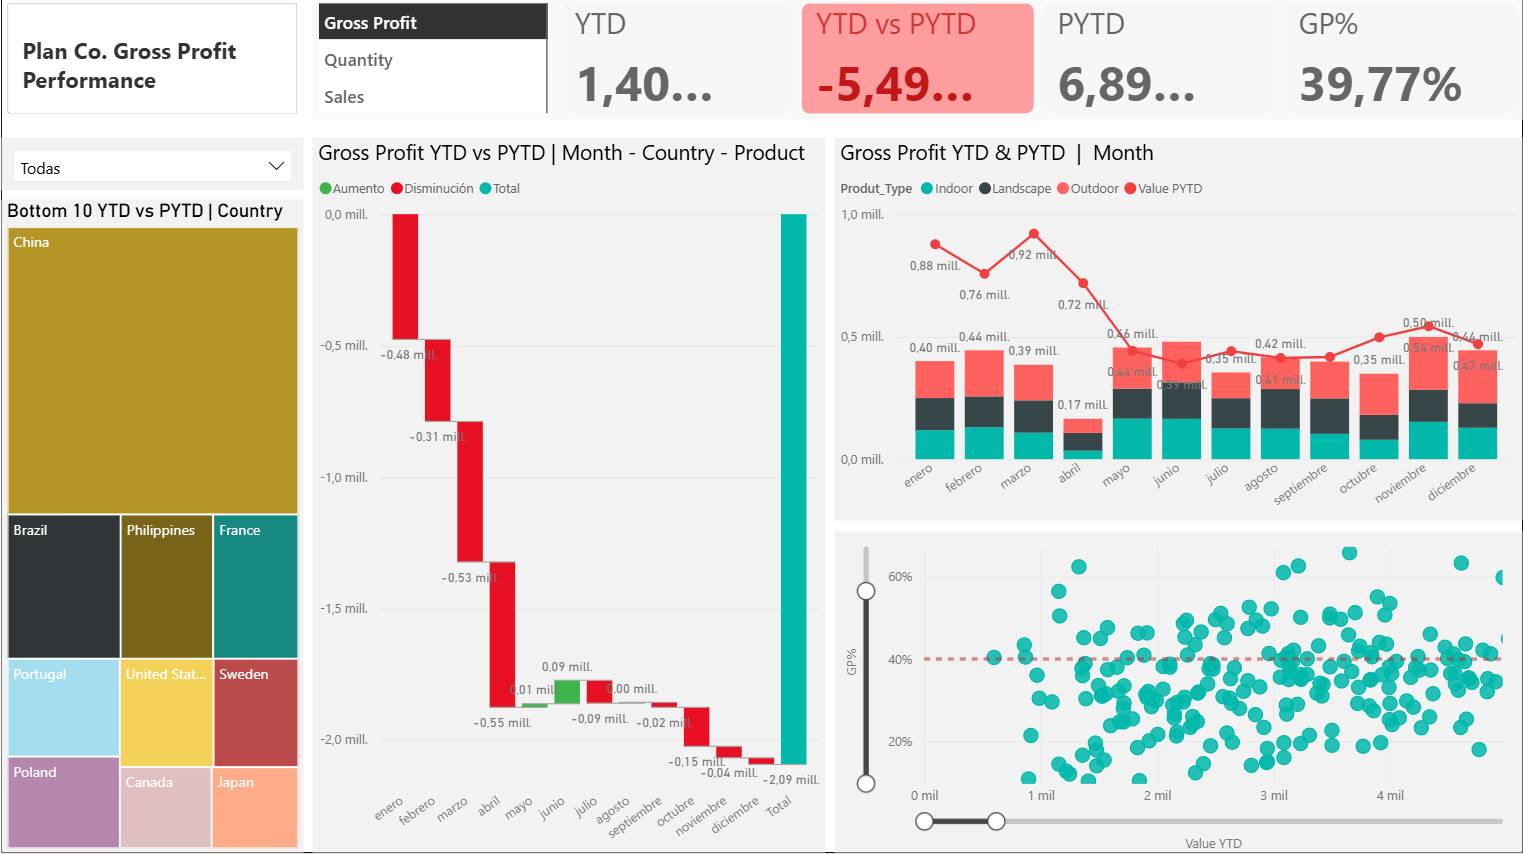

The dashboard page shown, as its layout file describes it:
{"tool":"powerbi","page":{"name":"Página 1","canvas":[1280,720],"ordinal":0},"visuals":[{"type":"advancedSlicerVisual","fields":{"Values":["Slc_Values.Values"]},"box":[262.2,0,203.3,103.3],"z":0},{"type":"slicer","title":"YTD","fields":{"Values":["Dim_Date.Date.Variación.Jerarquía de fechas.Año"]},"box":[0,117.8,254.4,44.4],"z":1000},{"type":"treemap","title":"Bottom 10 YTD vs PYTD | Country","fields":{"Values":["_Measures.YTD vs PYTD"],"Group":["Dim_Account.country"]},"box":[0,170,254.4,550],"z":2000},{"type":"waterfallChart","fields":{"Category":["Dim_Date.Date.Variación.Jerarquía de fechas.Mes","Dim_Account.country","Dim_Product.Produt_Type","Dim_Product.Product_Name"],"Y":["_Measures.YTD vs PYTD"]},"box":[262.2,117.8,431.1,602.2],"z":3000},{"type":"cardVisual","fields":{"Data":["_Measures.S_YTD","_Measures.YTD vs PYTD","_Measures.S_PYTD","_Measures.GP%"]},"box":[465.6,0,814.4,103.3],"z":4000},{"type":"lineStackedColumnComboChart","fields":{"Y":["_Measures.S_YTD"],"Y2":["_Measures.S_PYTD"],"Category":["Dim_Date.Date.Variación.Jerarquía de fechas.Trimestre","Dim_Date.Date.Variación.Jerarquía de fechas.Mes"],"Series":["Dim_Product.Produt_Type"]},"box":[701.1,117.8,578.9,322.2],"z":5000},{"type":"scatterChart","fields":{"Y":["_Measures.GP%"],"X":["_Measures.S_YTD"],"Category":["Dim_Account.Account"]},"box":[700.9,448.9,579.1,271],"z":6000},{"type":"cardVisual","fields":{"Data":["_Measures._Report title"]},"box":[0,0,254.4,103.3],"z":7000}]}

Visuals, with their boxes in screenshot pixels (x1, y1, x2, y2), scaled from the page's 1280x720 canvas onto the 1523x854 screenshot:
advancedSlicerVisual - Slc_Values.Values: select_region(312, 0, 554, 123)
"YTD" slicer: select_region(0, 140, 303, 192)
"Bottom 10 YTD vs PYTD | Country" treemap: select_region(0, 202, 303, 853)
waterfallChart - Dim_Date.Date.Variación.Jerarquía de fechas.Mes x Dim_Account.country: select_region(312, 140, 825, 853)
cardVisual - _Measures.S_YTD x _Measures.YTD vs PYTD: select_region(554, 0, 1522, 123)
lineStackedColumnComboChart - _Measures.S_YTD x _Measures.S_PYTD: select_region(834, 140, 1522, 522)
scatterChart - _Measures.GP% x _Measures.S_YTD: select_region(834, 532, 1522, 853)
cardVisual - _Measures._Report title: select_region(0, 0, 303, 123)
